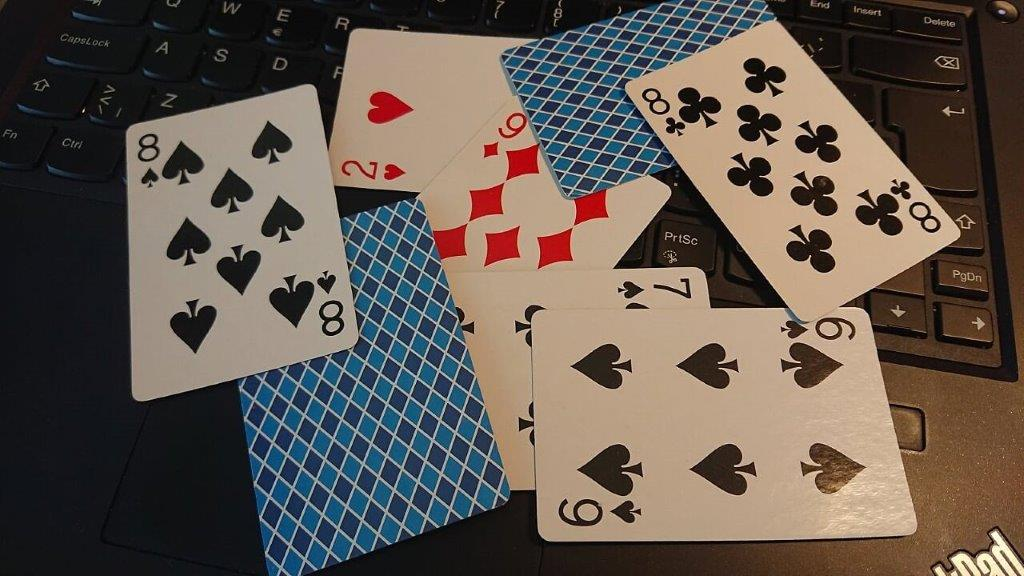8C: (638, 85, 689, 138)
8S: (134, 130, 162, 190)
9D: (479, 110, 531, 160)
BACK: (236, 379, 512, 576), (500, 15, 624, 106)
